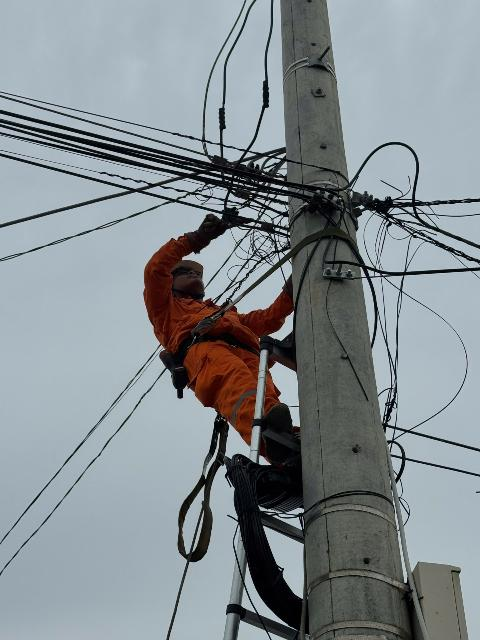gloves: (183, 209, 251, 246)
harness: (142, 326, 270, 375)
helmet: (154, 247, 234, 295)
shoes: (254, 398, 307, 458)
